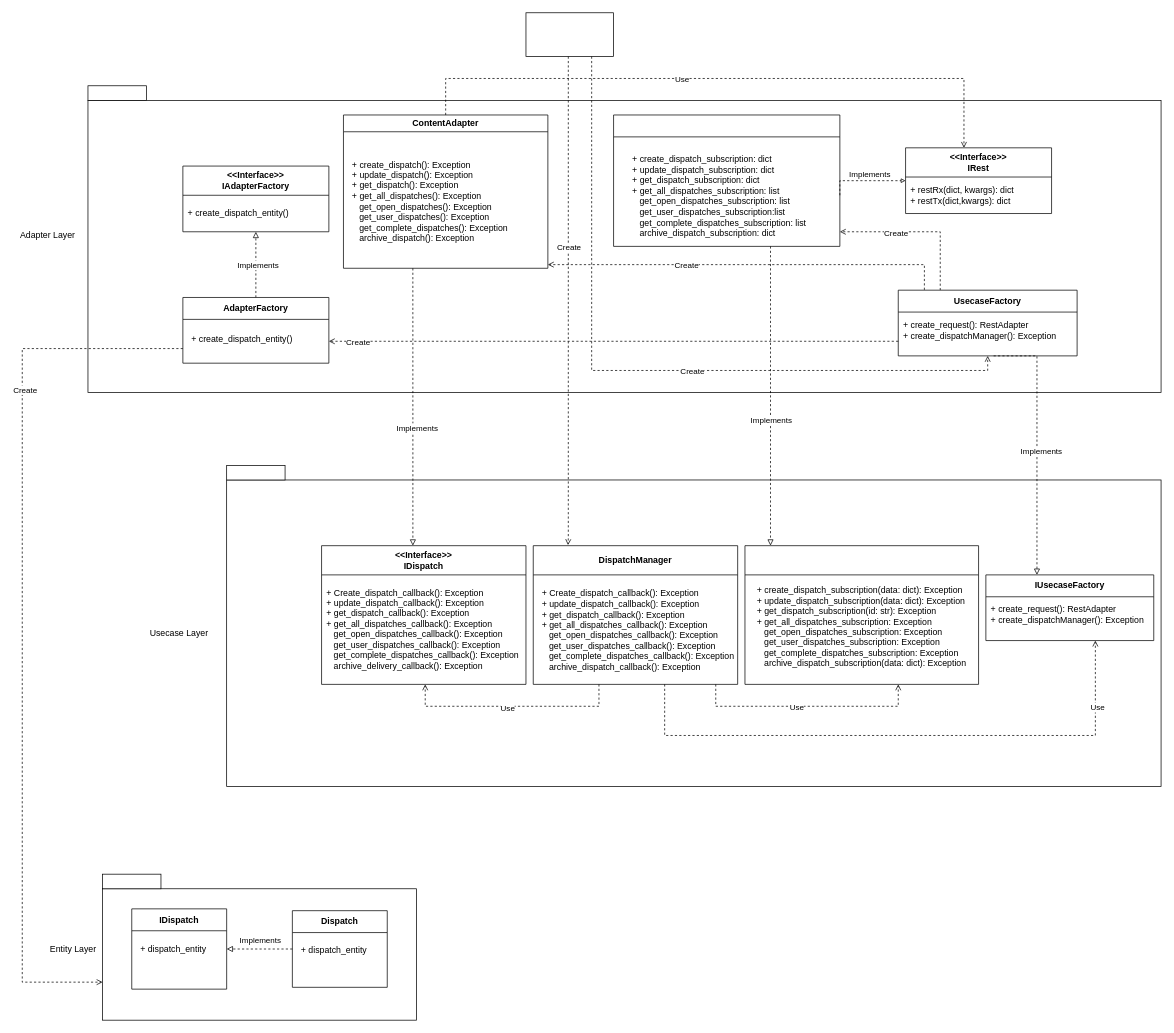
Some shapes in this 1174 by 1033 pixel diagram are drawn without their labels. The centre of each missing label's shape, as x and y in pixels:
"<<Interface>> IRequest" goes at point (861, 614).
"Main.py" goes at point (569, 34).
"RestAdapter" goes at point (726, 180).
